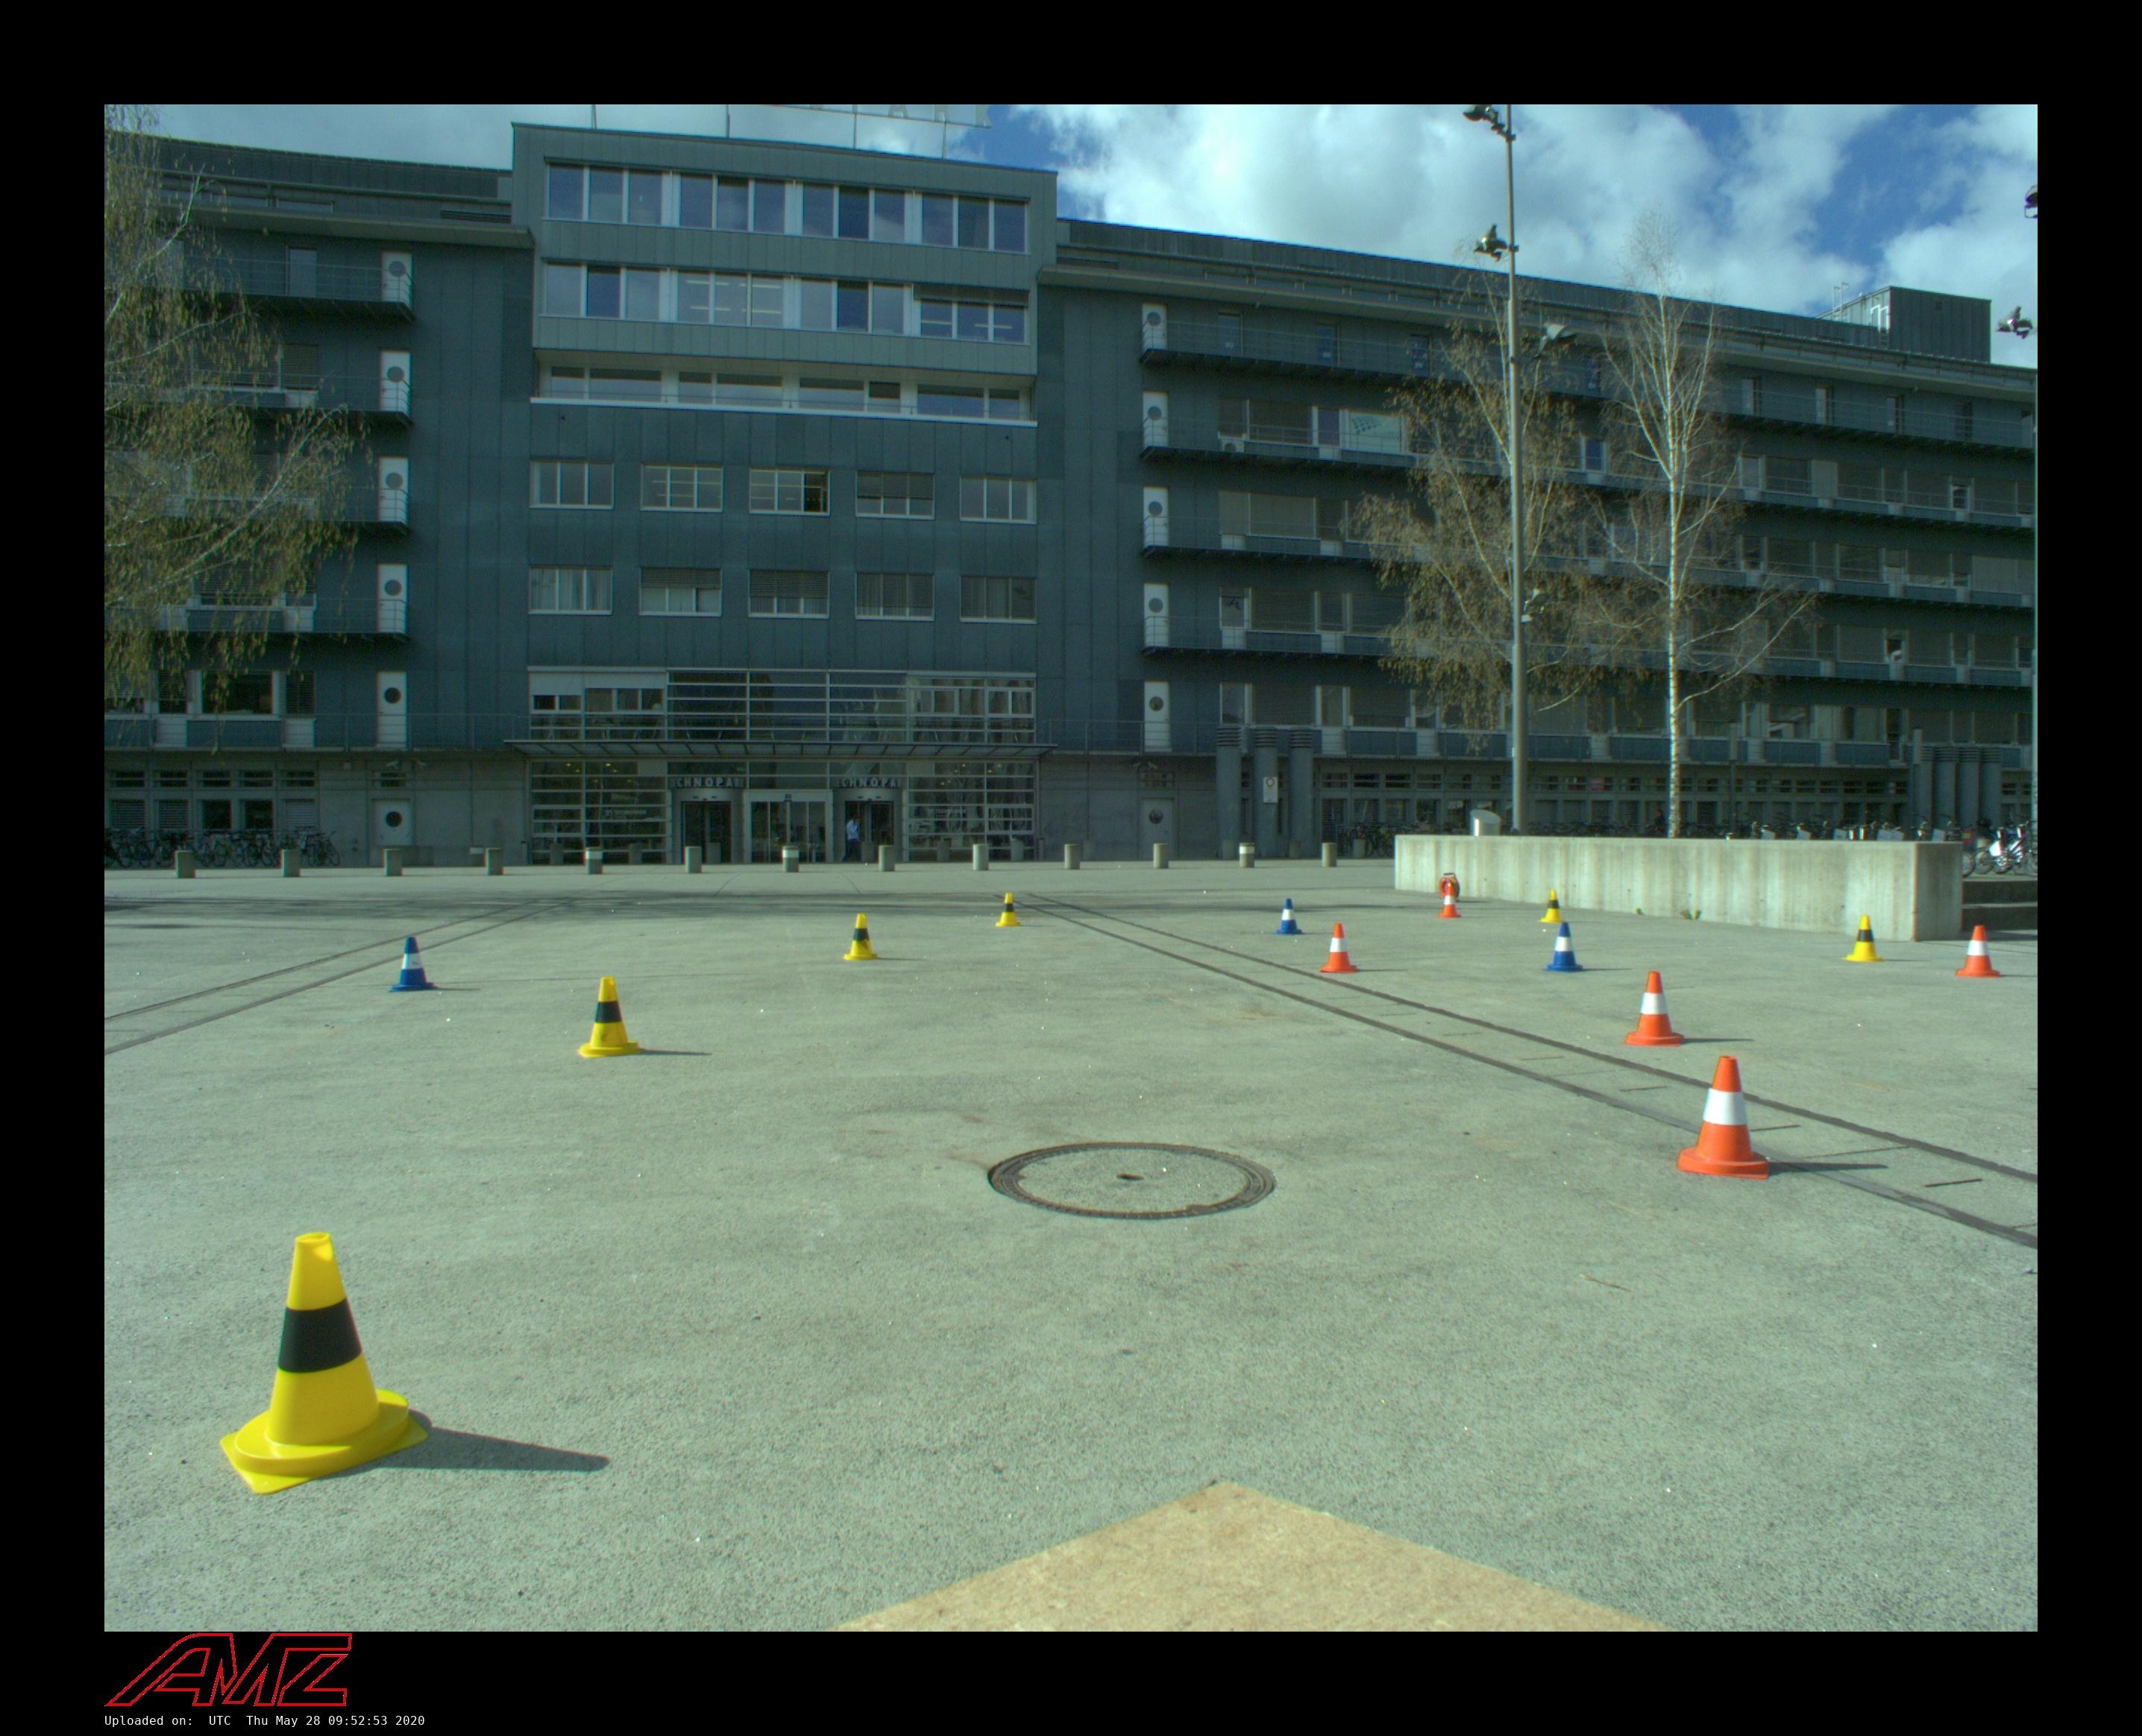blue_cone: (388, 935, 438, 992), (1541, 921, 1586, 973), (1274, 898, 1304, 935)
orange_cone: (1674, 1056, 1772, 1180), (1623, 971, 1685, 1047), (1956, 925, 2000, 978), (1320, 923, 1359, 973), (1437, 887, 1463, 918)
yellow_cone: (220, 1231, 429, 1495), (578, 976, 641, 1058), (1841, 916, 1887, 962), (843, 912, 881, 960), (1538, 889, 1566, 923), (996, 893, 1021, 926)
